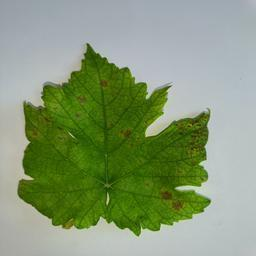Powdery-Mildew: (30, 108, 69, 144)
